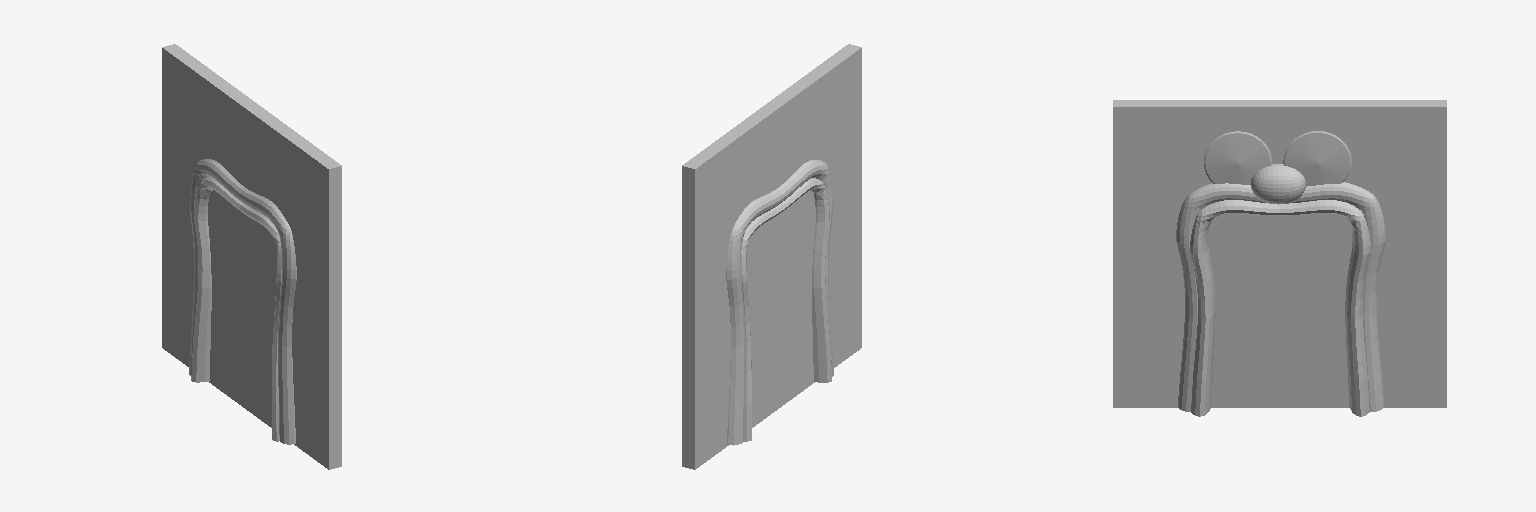
File: DoorFrame2.obj
3 views of the same model, side by side, from view 1: azimuth 30°, elevation 25°; view 2: azimuth 150°, elevation 25°; view 3: azimuth 270°, elevation 25° (orthographic).
Visible parts, largest first — view 1: Cube.004, Cube.009, Cube.008; view 2: Cube.004, Cube.009, Cube.008; view 3: Cube.004, Cube.002, Cube.003, Sphere.001, Sphere, Cube.007.
Boxes of the visible parts, <box> form: Cube.004: <box>162,44,341,469</box>; Cube.009: <box>189,159,296,444</box>; Cube.008: <box>191,178,281,441</box>; Cube.004: <box>682,44,861,469</box>; Cube.009: <box>726,160,833,445</box>; Cube.008: <box>741,178,831,441</box>; Cube.004: <box>1113,100,1446,407</box>; Cube.002: <box>1190,200,1370,416</box>; Cube.003: <box>1176,182,1385,411</box>; Sphere.001: <box>1283,131,1351,186</box>; Sphere: <box>1204,131,1271,184</box>; Cube.007: <box>1250,164,1305,204</box>.
Bounding box in the file's own units: 1.33 × 7.91 × 7.95.